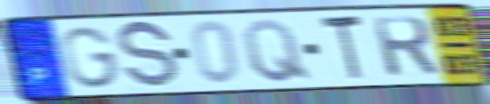0: (188, 18, 242, 88)
G: (58, 25, 123, 91)
Q: (240, 17, 314, 85)
R: (369, 14, 443, 79)
S: (116, 18, 181, 93)
T: (317, 12, 366, 84)
